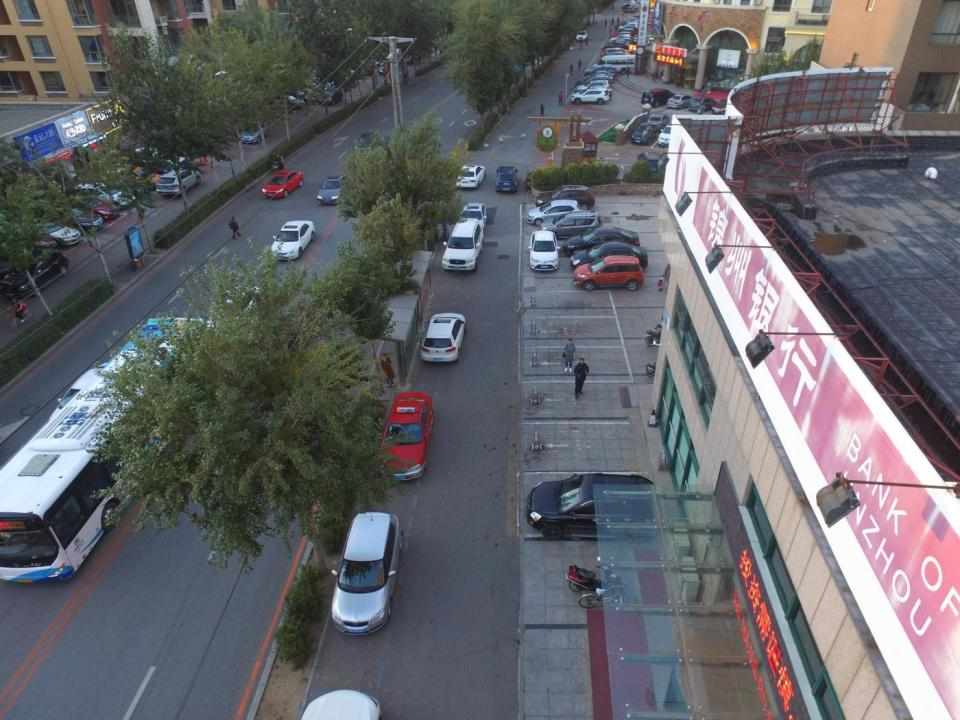bus: (0, 315, 235, 582), (592, 56, 638, 75)
car: (526, 469, 666, 542), (330, 508, 406, 635), (378, 390, 436, 482), (207, 284, 266, 345), (1, 248, 70, 299), (572, 255, 644, 292), (439, 217, 485, 273), (421, 311, 468, 364), (561, 227, 640, 257), (571, 245, 648, 271), (269, 219, 317, 260), (15, 218, 82, 247), (61, 184, 136, 209), (538, 213, 603, 239), (153, 163, 202, 197), (36, 206, 105, 230), (0, 229, 58, 257), (527, 200, 587, 226), (536, 184, 595, 210), (106, 163, 166, 187), (527, 230, 562, 271), (60, 196, 119, 220), (132, 145, 196, 167), (121, 154, 179, 178), (90, 177, 152, 199), (262, 169, 304, 199), (317, 173, 352, 204), (354, 130, 382, 162), (281, 81, 321, 102), (459, 202, 487, 231), (240, 119, 270, 144), (265, 91, 306, 109), (456, 164, 486, 188), (570, 88, 609, 105), (278, 88, 313, 106), (495, 166, 520, 191), (319, 81, 345, 105), (576, 76, 612, 93), (657, 124, 682, 148), (638, 151, 662, 175), (576, 86, 612, 102), (632, 122, 658, 144), (578, 78, 610, 95), (666, 92, 696, 110), (577, 74, 613, 89), (574, 82, 612, 96), (290, 76, 322, 92), (586, 63, 615, 80), (601, 48, 631, 64), (376, 58, 406, 74), (646, 112, 671, 131), (582, 66, 617, 79), (689, 96, 719, 111), (604, 42, 632, 58), (608, 36, 640, 50), (608, 34, 638, 48), (712, 97, 737, 113), (610, 38, 640, 51), (582, 71, 614, 83), (605, 39, 633, 52), (306, 76, 336, 88), (607, 31, 636, 43), (605, 52, 632, 63), (604, 48, 631, 58), (576, 30, 589, 40)
van: (640, 86, 674, 109)
